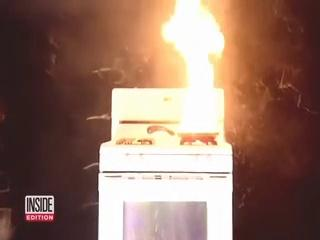Fire: (175, 1, 232, 135)
